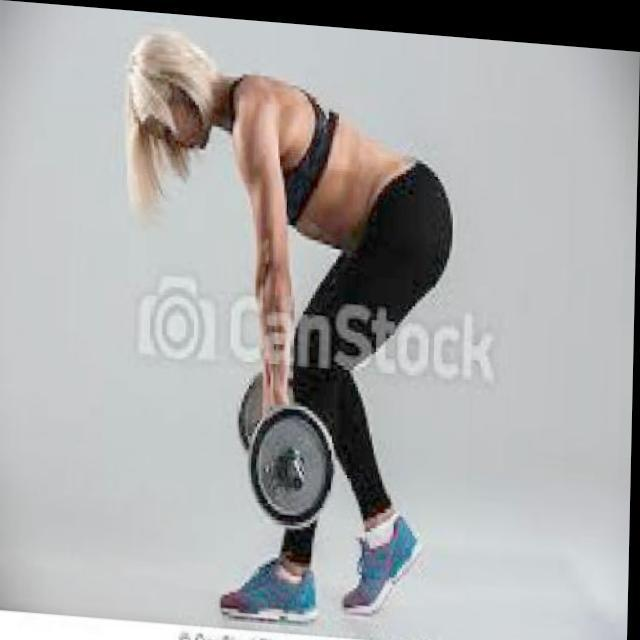barbell: (240, 391, 338, 533)
